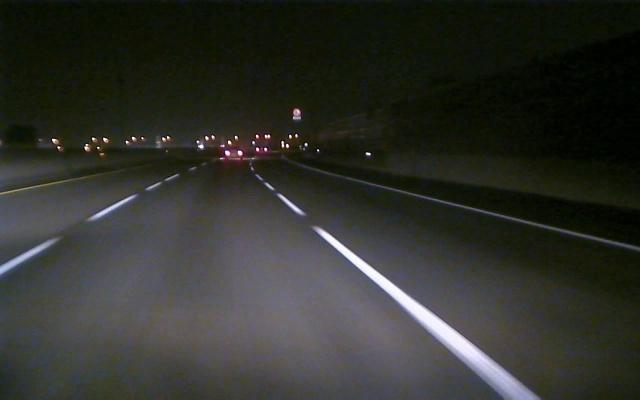lane: (262, 181, 543, 399), (350, 177, 640, 253), (2, 176, 174, 274)
